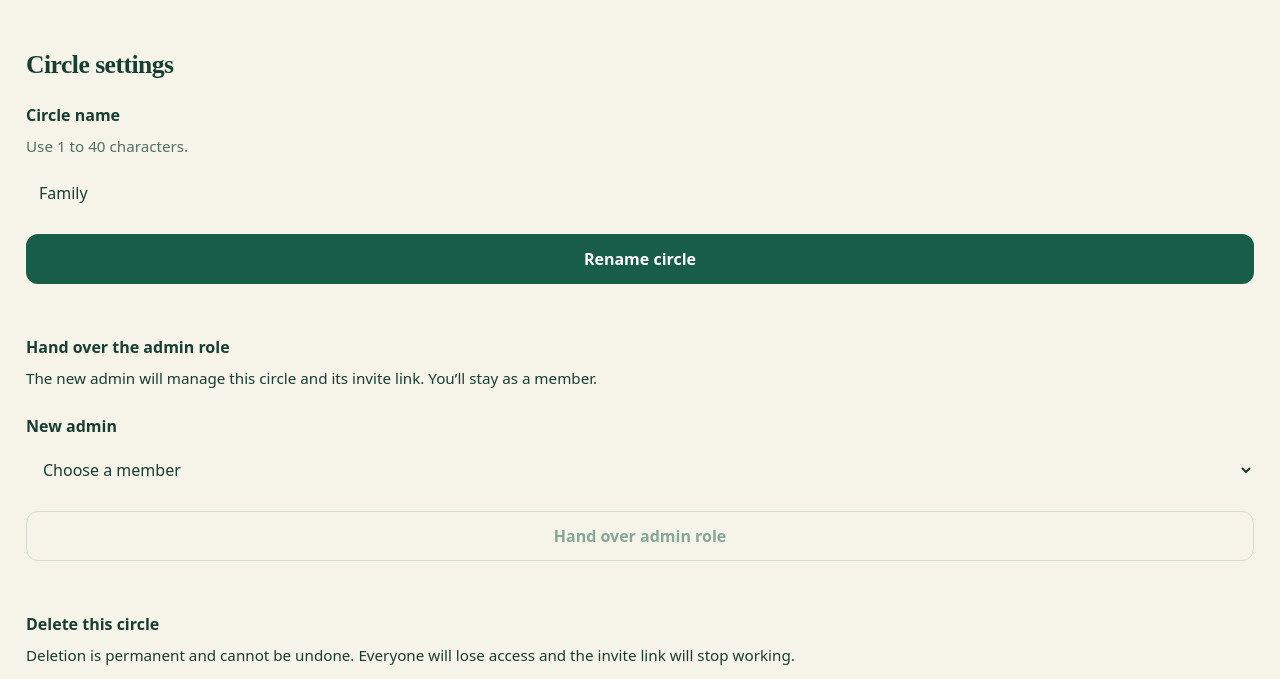
it: done-when-4: rename sends one trimmed request and places API validation beside the name
Replace the text in the field labelled "Circle name" with "  College friends  " at [640, 193], box x1=26 y1=168 x2=1254 y2=218
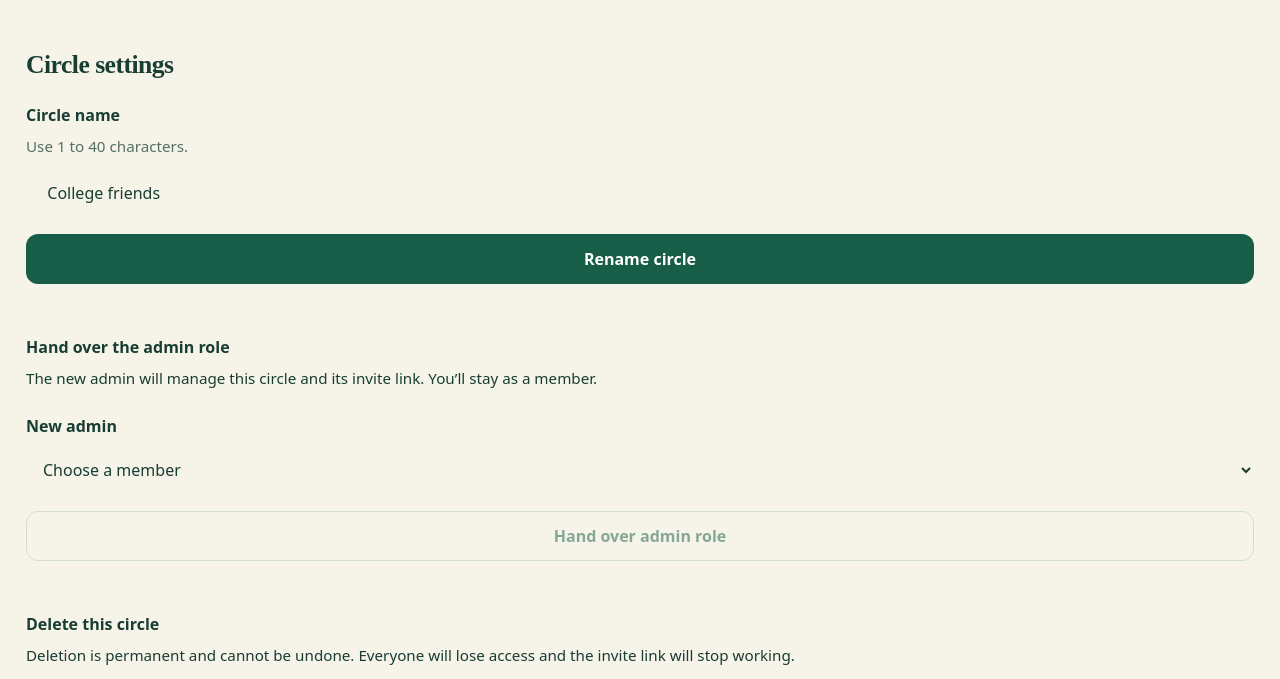
Click the button "Rename circle" at [640, 259], box x1=26 y1=234 x2=1254 y2=284
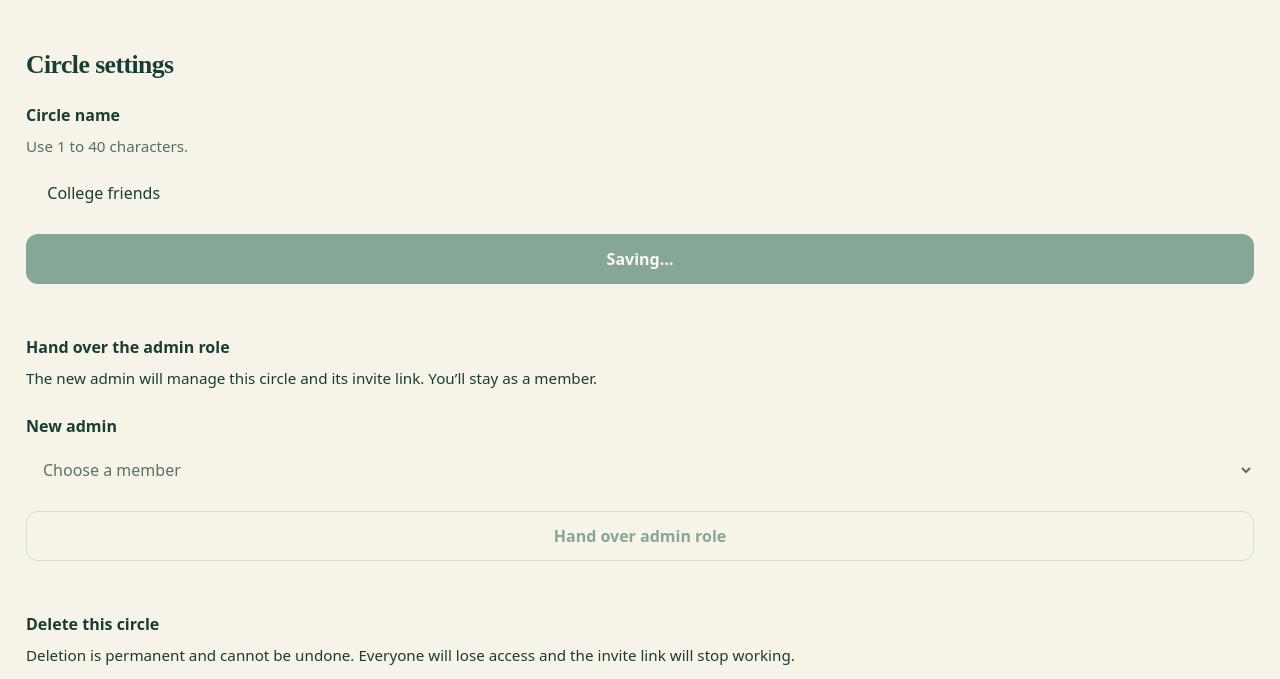
Expected: the button "Saving…" is disabled, x1=26 y1=234 x2=1254 y2=284
Submit the form "Circle name", box x1=26 y1=104 x2=1254 y2=284
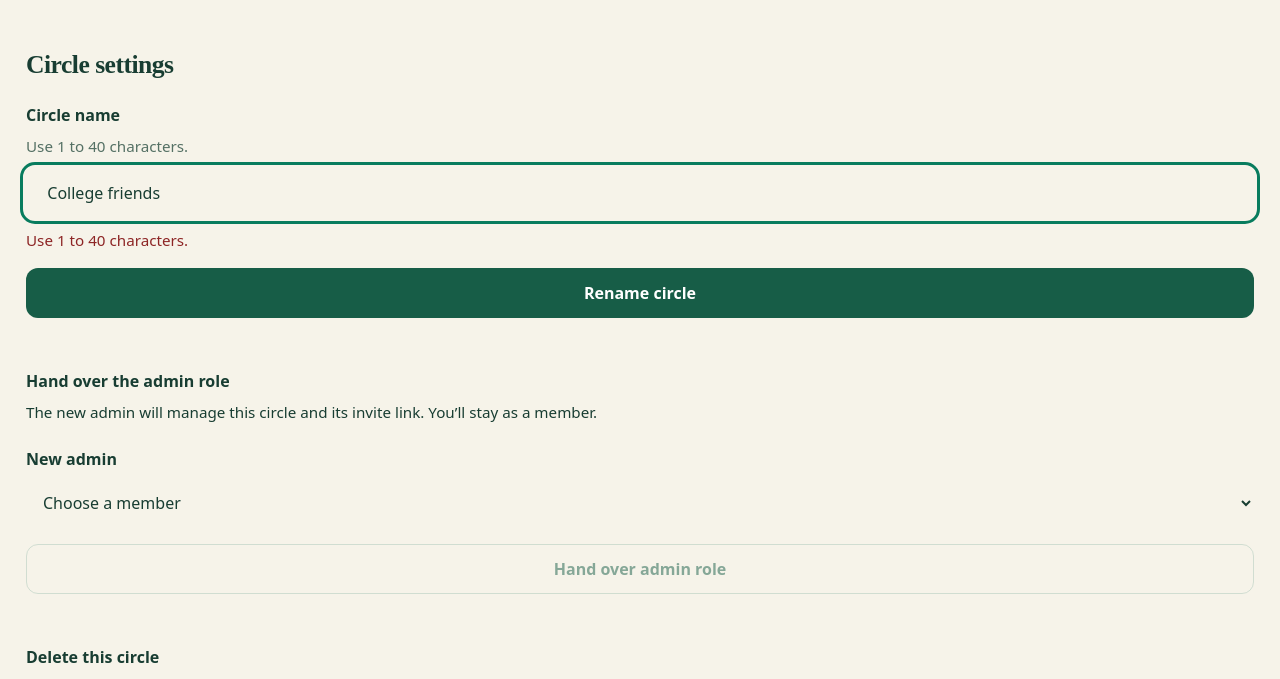
Expected: the message reads "Use 1 to 40 characters.", x1=26 y1=230 x2=188 y2=250
Expected: the button "Rename circle" is enabled, x1=26 y1=268 x2=1254 y2=318
